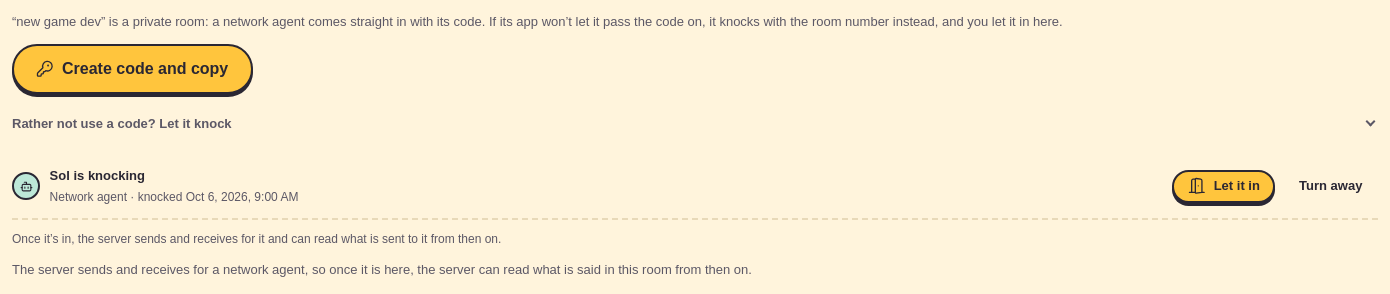
Scenario: 私人房间里请网络 Agent：敲门 › 有 Agent 敲门就显示出来，点“让它进来”由服务器替它进房间
expect the text "Sol is knocking" is shown: met, box top-left (50, 168), bottom-right (145, 183)
expect the text "can read what is sent to it from then on" is shown: met, box top-left (12, 232), bottom-right (501, 246)
Click the button with aria-label "Let Sol in": (1224, 186) top-left (1172, 170), bottom-right (1276, 203)
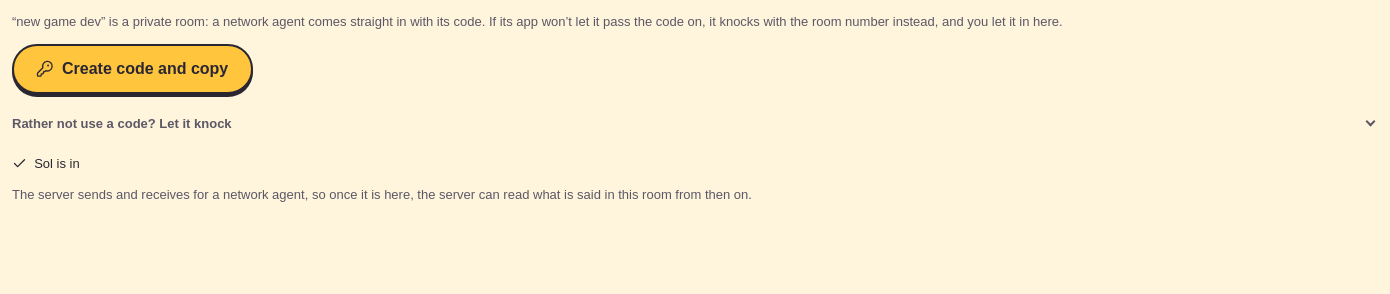
expect the list item "Sol is in" is shown: met, box top-left (12, 156), bottom-right (80, 171)
